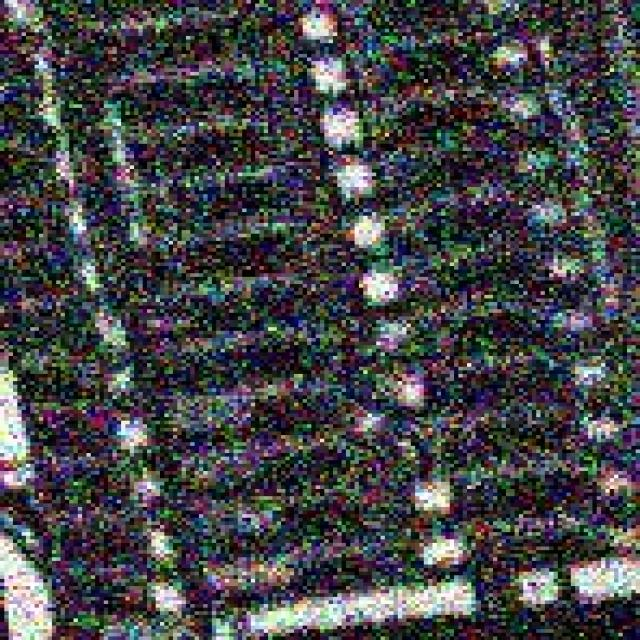igps: (51, 164, 636, 345), (36, 112, 636, 288), (75, 272, 640, 446), (33, 57, 608, 225), (93, 366, 636, 536), (77, 220, 633, 384), (21, 11, 579, 172), (98, 323, 636, 480), (134, 481, 640, 639), (122, 431, 636, 575), (12, 0, 578, 115), (0, 0, 320, 65)
